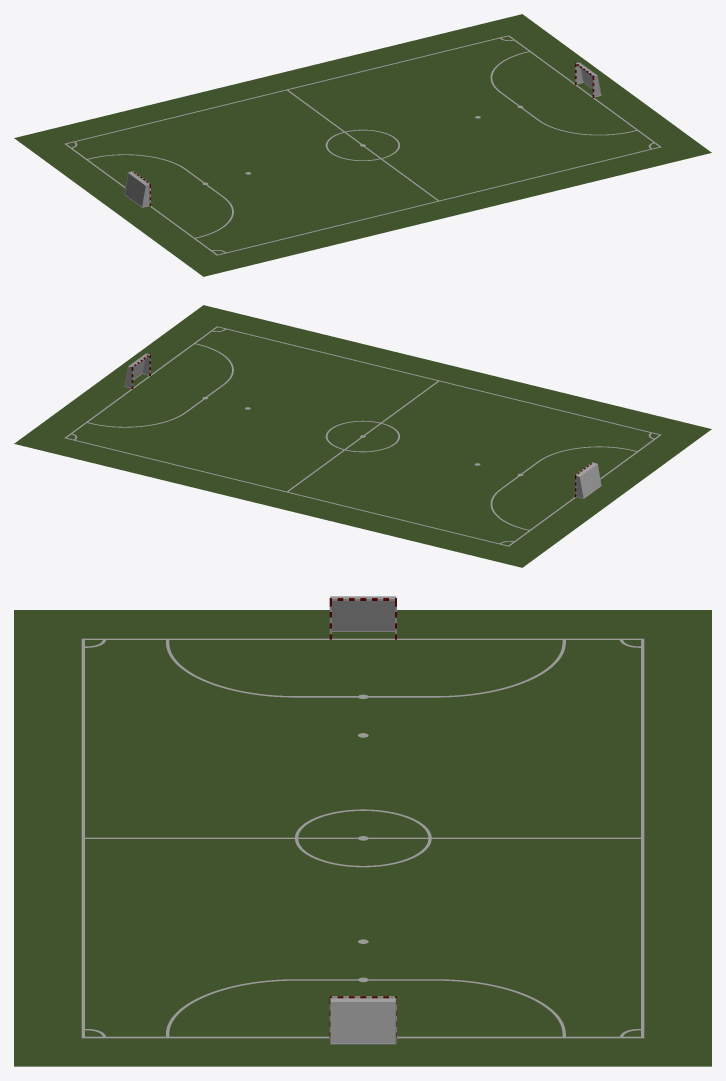
File: stadiummain.glb
3 views of the same model, one above another, from view 1: azimuth 30°, elevation 25°; view 2: azimuth 150°, elevation 25°; view 3: azimuth 270°, elevation 25° (orthographic). The views are drawn at different scales.
Visible parts, largest first — view 1: MINI_football_001; view 2: MINI_football_001; view 3: MINI_football_001.
Part boxes in pixels (x1,y1,x2,y2): MINI_football_001: [14, 14, 711, 276]; MINI_football_001: [14, 305, 711, 567]; MINI_football_001: [14, 596, 711, 1066].
Size of the model in its own units: 190 by 7.94 by 123.
